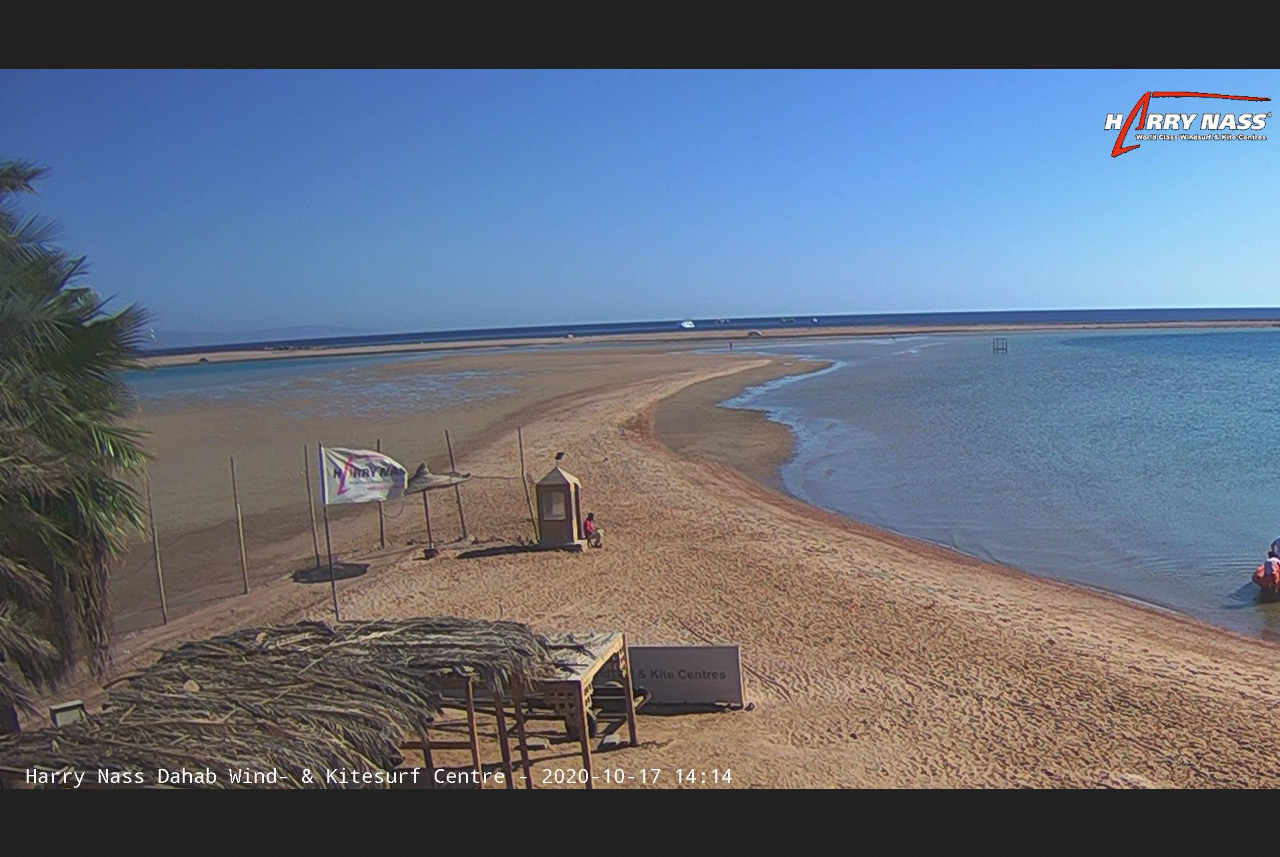yes: (315, 438, 415, 508)
